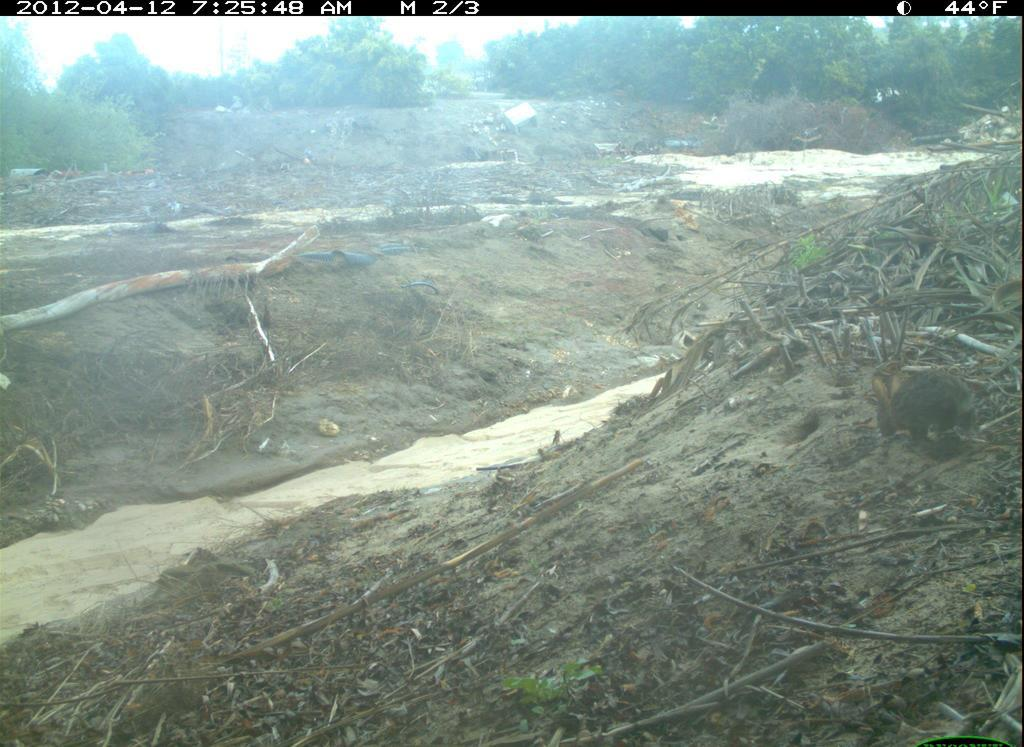rabbit: (861, 350, 991, 464)
